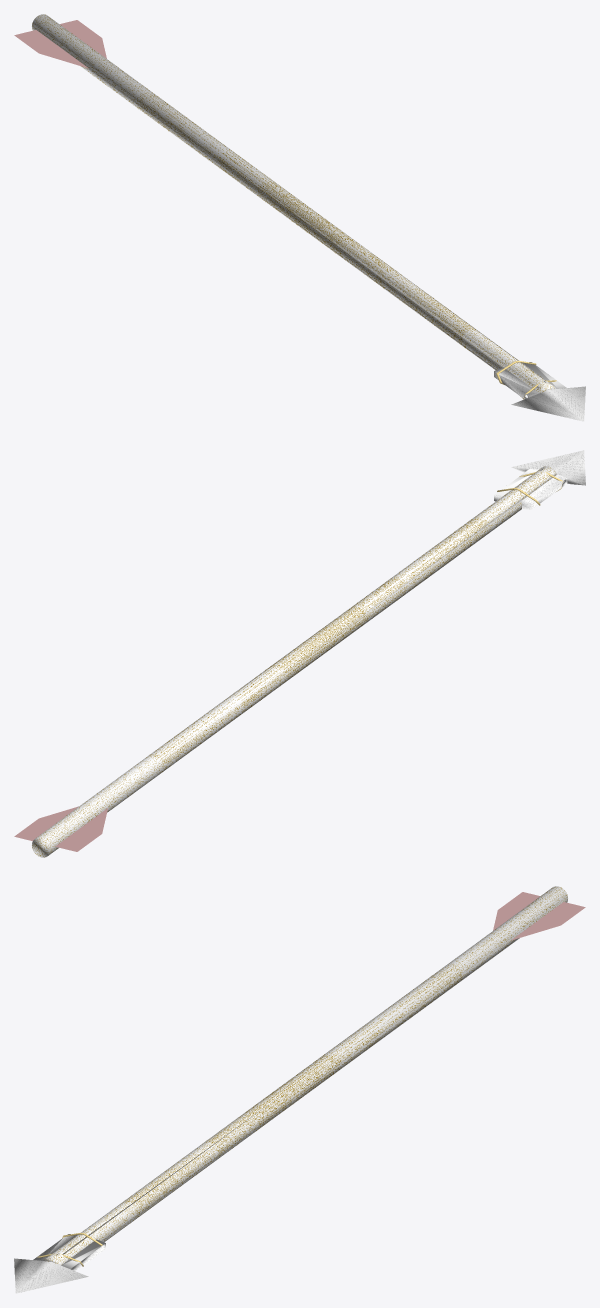
Rendered from Arrow.fbx.
The picture shows the model from 3 angles, top to bottom: view 1: azimuth 30°, elevation 25°; view 2: azimuth 150°, elevation 25°; view 3: azimuth 330°, elevation 25°; orthographic projection.
Parts seen in each view (by area): view 1: Model; view 2: Model; view 3: Model.
Part boxes in pixels (bbox=[...]): Model: bbox=[14, 14, 585, 421]; Model: bbox=[14, 450, 585, 857]; Model: bbox=[14, 886, 585, 1293].
Bounding box in the file's own units: 2.64 × 33.01 × 0.743.
